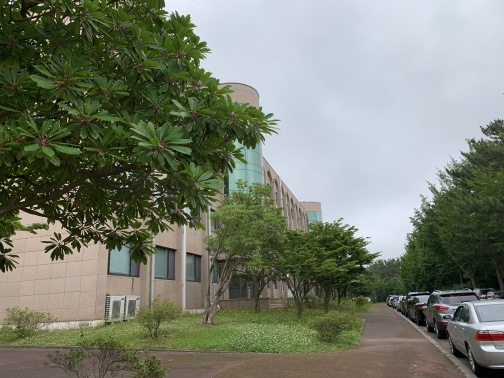Natural Science2: (216, 82, 344, 239)
